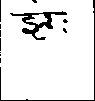anusvara: (32, 0, 37, 3)
